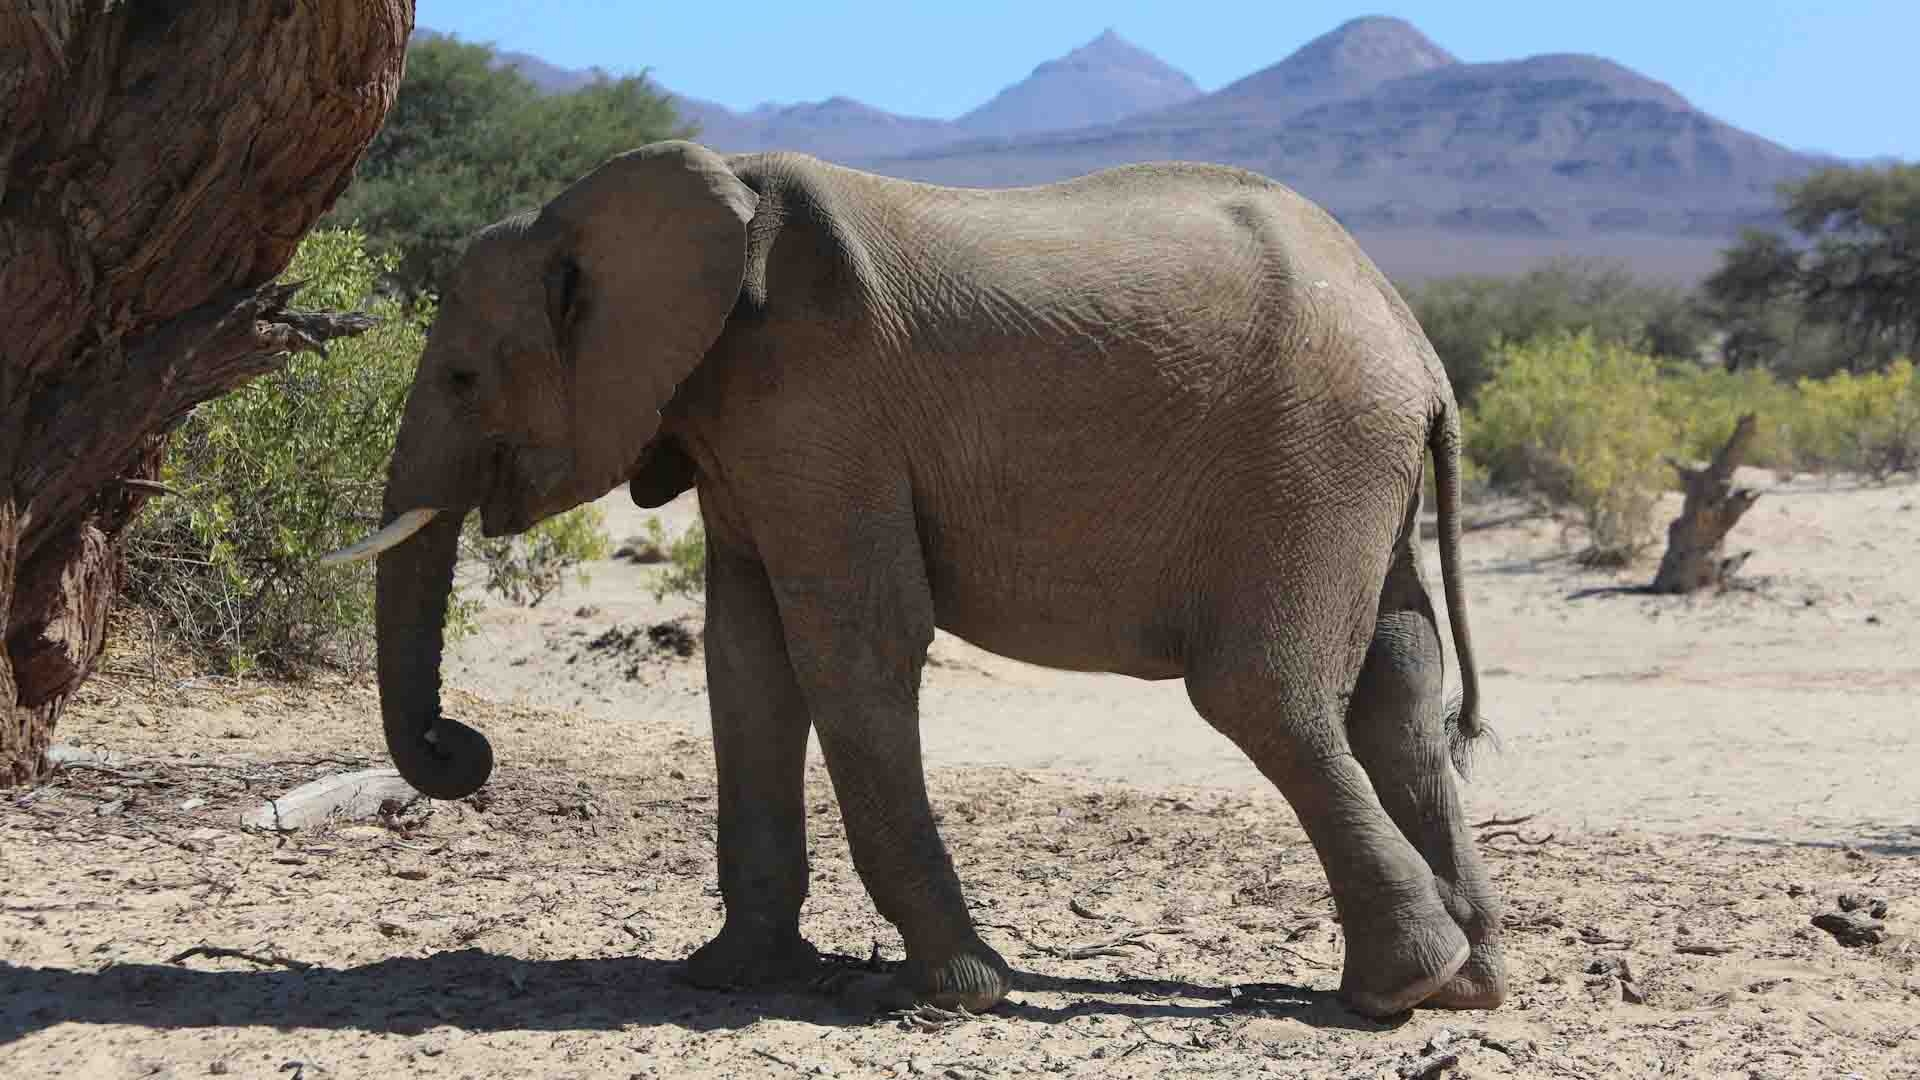elephant: (313, 148, 1510, 1021)
